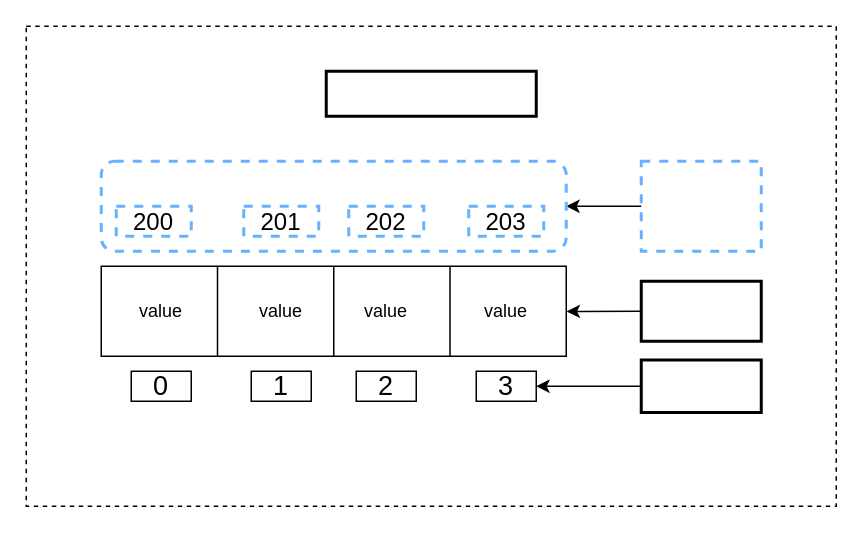
Image size: 863x533. Some labels were removed from this diagram. Here are the shapes that lost their labels. From the top down, the centre of each, then its label:
point (430, 93): Array
point (700, 205): memory address
point (700, 310): Element
point (700, 385): Index
